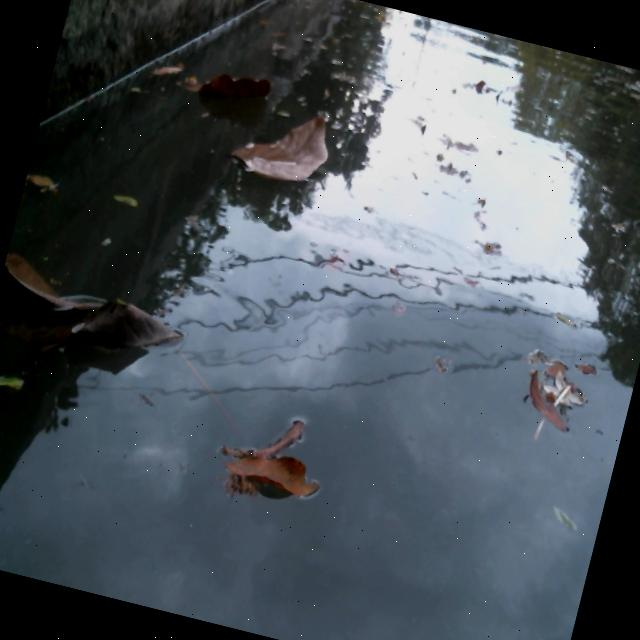Big-leaf: (0, 242, 200, 401), (209, 396, 342, 529), (211, 89, 345, 207), (188, 50, 269, 116)
Small-leaf: (508, 371, 589, 449), (128, 41, 199, 96), (87, 175, 136, 220), (0, 359, 35, 419), (20, 174, 59, 208)
